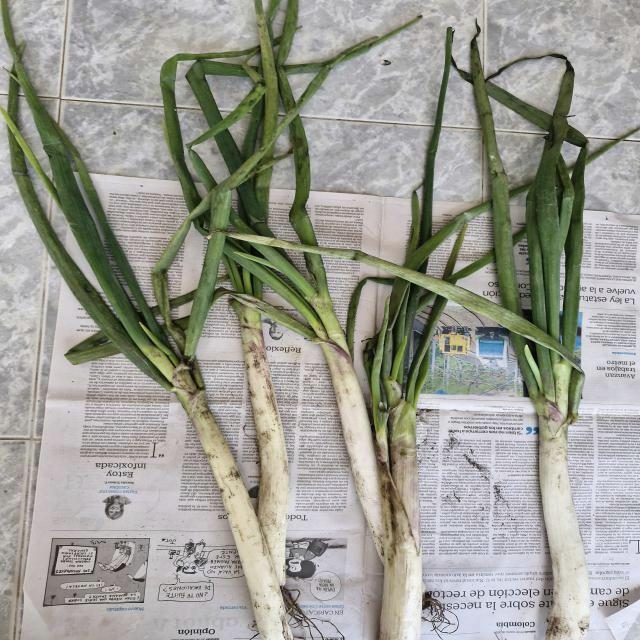green_onion: (0, 64, 308, 629), (481, 43, 611, 633), (358, 170, 467, 637)
